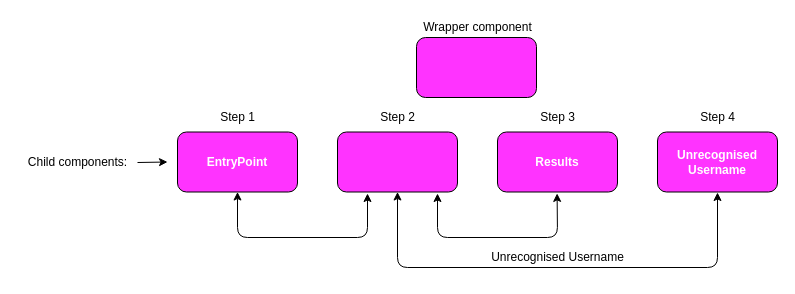
This 795x294 diagram has some shape labels left out. The centre of each missing label's shape, as x and y in pixels:
"FormGithub Username" belongs at point (397, 161).
"UserForm" belongs at point (476, 67).
